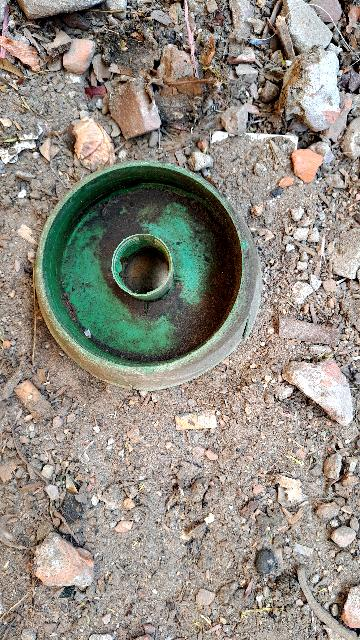hardplastic: (32, 168, 268, 394)
